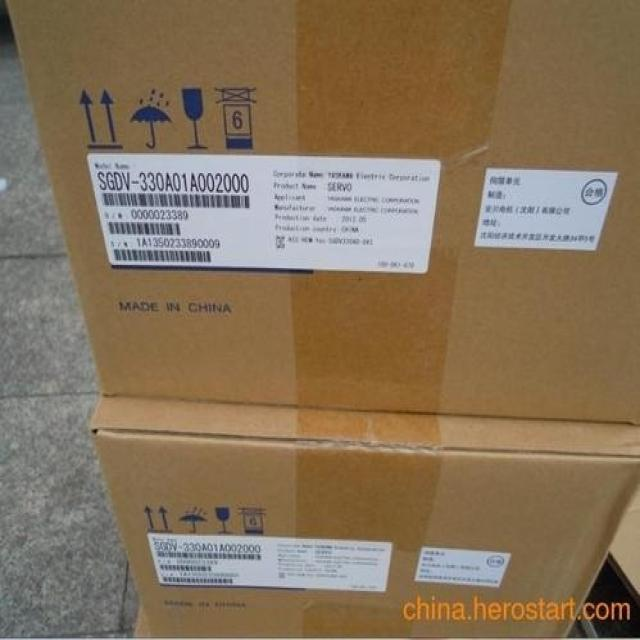box: (5, 2, 639, 424), (87, 397, 639, 638)
